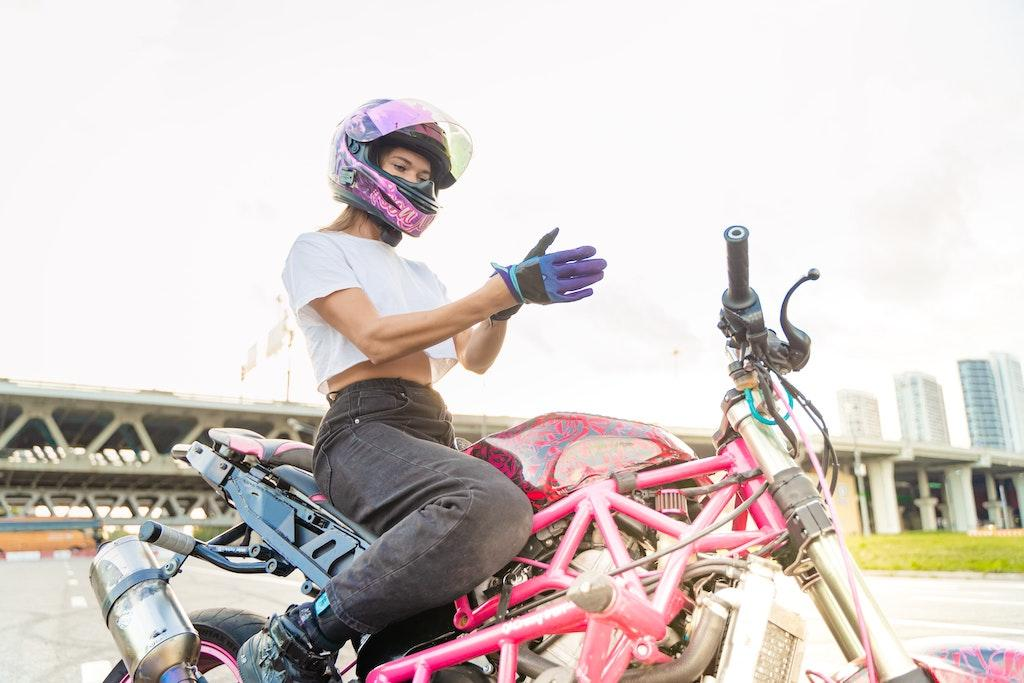helmet: (326, 95, 475, 248)
